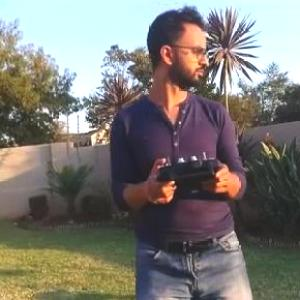follow: (114, 2, 260, 299)
